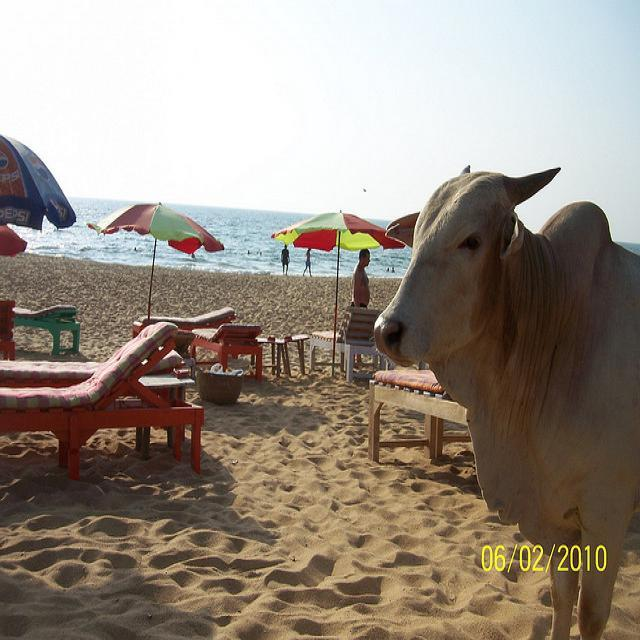cow: (368, 157, 639, 631)
